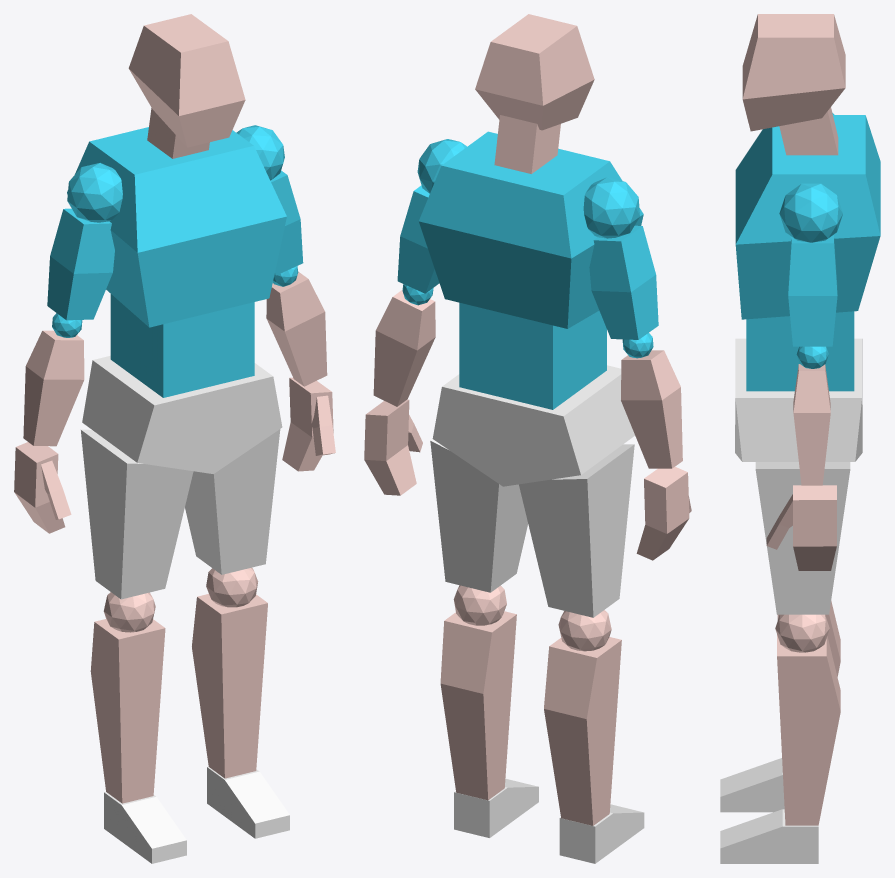
Rendered from character.gltf.
The picture shows the model from 3 angles, left to right: view 1: azimuth 30°, elevation 25°; view 2: azimuth 150°, elevation 25°; view 3: azimuth 270°, elevation 25°; orthographic projection. The views are drawn at different scales.
Visible parts, largest first — view 1: Cube.002, Cube.012, Cube.016, Cube.014, Cube.017, Cube, Cube.003, Cube.013, Cube.008, Cube.009, Cube.005, Cube.018 (+11 smaller); view 2: Cube.002, Cube.012, Cube.016, Cube.003, Cube.017, Cube.014, Cube, Cube.013, Cube.008, Cube.009, Cube.005, Cube.006 (+9 smaller); view 3: Cube.002, Cube, Cube.014, Cube.012, Cube.013, Cube.003, Cube.004, Cube.015, Cube.005, Cube.006, Icosphere, Cube.018 (+5 smaller).
Boxes of the visible parts, <box> form: Cube.002: <box>67,127,286,327</box>; Cube.012: <box>82,355,282,473</box>; Cube.016: <box>81,429,193,599</box>; Cube.014: <box>192,594,267,778</box>; Cube.017: <box>90,619,165,803</box>; Cube: <box>128,14,245,147</box>; Cube.003: <box>110,294,254,397</box>; Cube.013: <box>185,429,280,574</box>; Cube.008: <box>47,208,114,320</box>; Cube.009: <box>23,330,84,446</box>; Cube.005: <box>266,272,327,386</box>; Cube.018: <box>104,792,186,863</box>; Cube.002: <box>418,131,643,328</box>; Cube.012: <box>432,365,634,486</box>; Cube.016: <box>519,444,634,617</box>; Cube.003: <box>459,302,606,409</box>; Cube.017: <box>544,637,621,825</box>; Cube.014: <box>440,611,516,800</box>; Cube: <box>475,14,594,130</box>; Cube.013: <box>430,439,528,592</box>; Cube.008: <box>589,225,658,339</box>; Cube.009: <box>621,350,682,468</box>; Cube.005: <box>373,290,435,406</box>; Cube.006: <box>364,399,416,495</box>; Cube.002: <box>735,115,880,319</box>; Cube: <box>742,14,845,131</box>; Cube.014: <box>777,635,840,825</box>; Cube.012: <box>735,338,862,461</box>; Cube.013: <box>755,462,850,614</box>; Cube.003: <box>746,311,854,391</box>; Cube.004: <box>788,235,837,346</box>; Cube.015: <box>720,809,818,863</box>; Cube.005: <box>793,364,830,485</box>; Cube.006: <box>793,485,836,570</box>; Icosphere: <box>779,183,842,242</box>; Cube.018: <box>720,758,784,812</box>.
Size of the model in its own units: 1.3 by 3.29 by 0.594.
